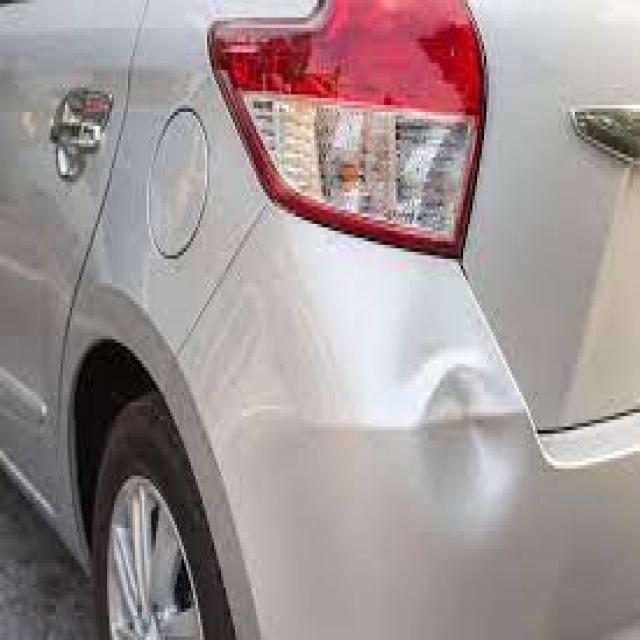minor: (380, 307, 562, 524)
